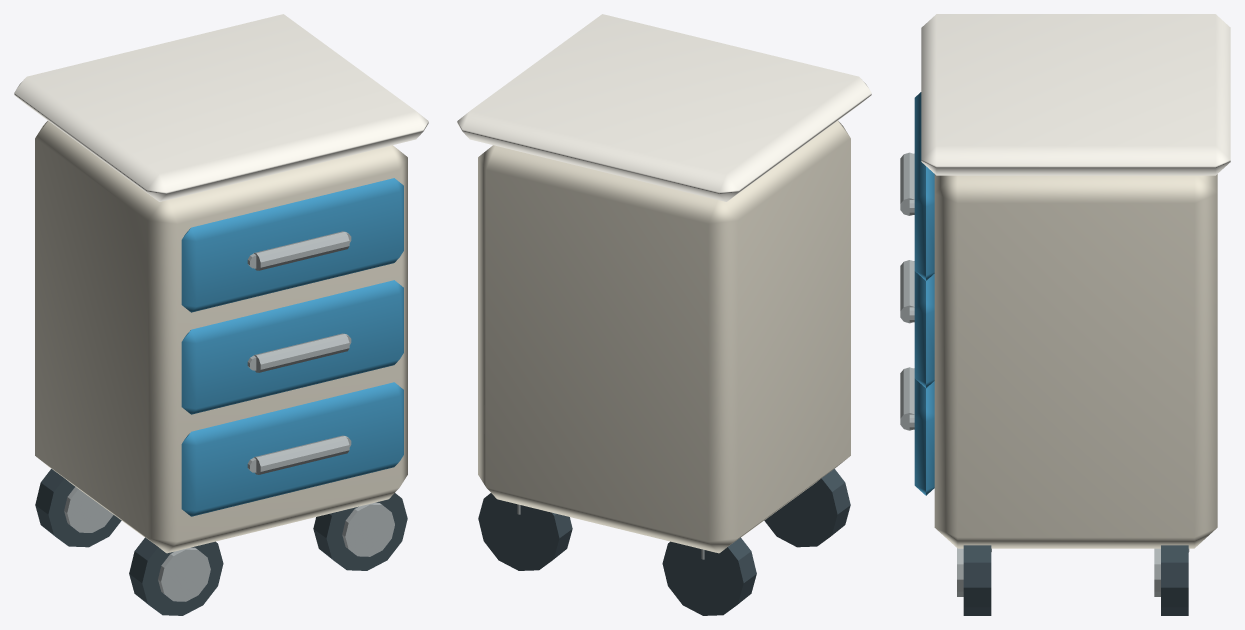
The model's file is BedsideCabinet_advanced.glb.
3 views of the same model, side by side, from view 1: azimuth 30°, elevation 25°; view 2: azimuth 150°, elevation 25°; view 3: azimuth 270°, elevation 25° (orthographic). The views are drawn at different scales.
Visible parts, largest first — view 1: Static_ivory, Static_white, Drawer_2, Drawer_3, Drawer_1, Static_dark, Static_steel; view 2: Static_ivory, Static_white, Static_dark; view 3: Static_ivory, Static_white, Static_dark, Drawer_1, Drawer_3, Drawer_2, Static_steel.
Boxes of the visible parts, x1,y1,x2,y2 form: Static_ivory: [35, 121, 407, 553]; Static_white: [14, 14, 428, 201]; Drawer_2: [181, 280, 403, 414]; Drawer_3: [181, 382, 403, 516]; Drawer_1: [181, 178, 403, 312]; Static_dark: [35, 469, 407, 615]; Static_steel: [64, 487, 394, 601]; Static_ivory: [478, 121, 850, 553]; Static_white: [457, 14, 871, 201]; Static_dark: [478, 469, 850, 615]; Static_ivory: [934, 174, 1217, 548]; Static_white: [921, 14, 1230, 175]; Static_dark: [963, 545, 1188, 615]; Drawer_1: [900, 92, 934, 280]; Drawer_3: [900, 367, 934, 495]; Drawer_2: [900, 260, 934, 388]; Static_steel: [957, 548, 1189, 596].
Size of the model in its own units: 0.52 by 0.812 by 0.5023.
